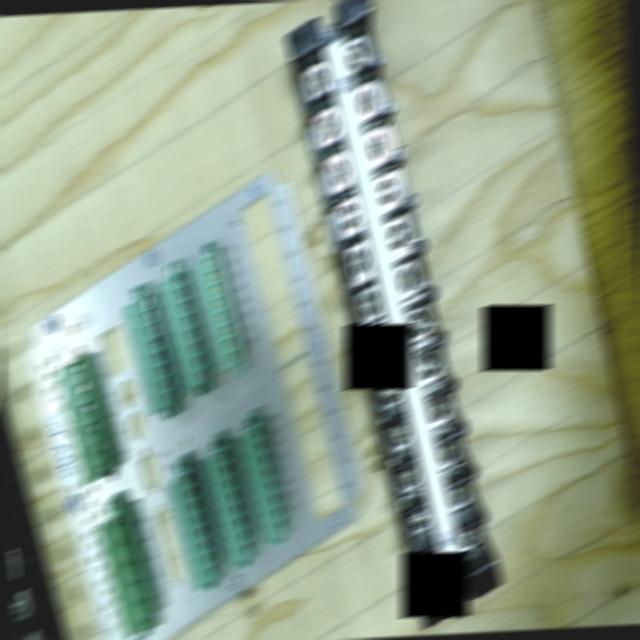Phillips_Block: (281, 0, 512, 628)
Terminal_1: (94, 510, 159, 639), (54, 357, 115, 486)
Terminal_2: (153, 270, 216, 394), (120, 292, 183, 415), (164, 468, 226, 591), (234, 423, 294, 544), (200, 445, 259, 568)
